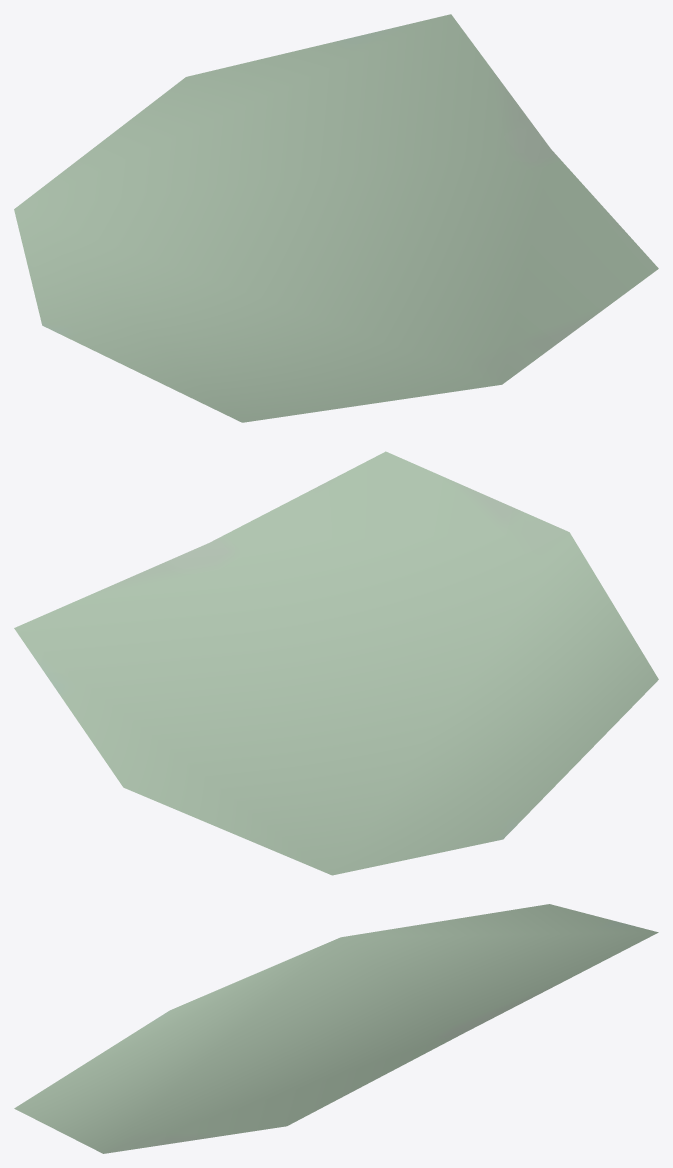
File: TROLLHOLE02_HOLECAP83.fbx
3 views of the same model, one above another, from view 1: azimuth 30°, elevation 25°; view 2: azimuth 150°, elevation 25°; view 3: azimuth 330°, elevation 25° (orthographic). The views are drawn at different scales.
Parts seen in each view (by area): view 1: TROLLHOLE02_HOLECAP83; view 2: TROLLHOLE02_HOLECAP83; view 3: TROLLHOLE02_HOLECAP83.
Part boxes in pixels (bbox=[...]): TROLLHOLE02_HOLECAP83: bbox=[14, 14, 658, 422]; TROLLHOLE02_HOLECAP83: bbox=[14, 451, 658, 875]; TROLLHOLE02_HOLECAP83: bbox=[14, 904, 658, 1153].
Bounding box in the file's own units: 10831 × 3441 × 15970.
1 material, 1 textured.
